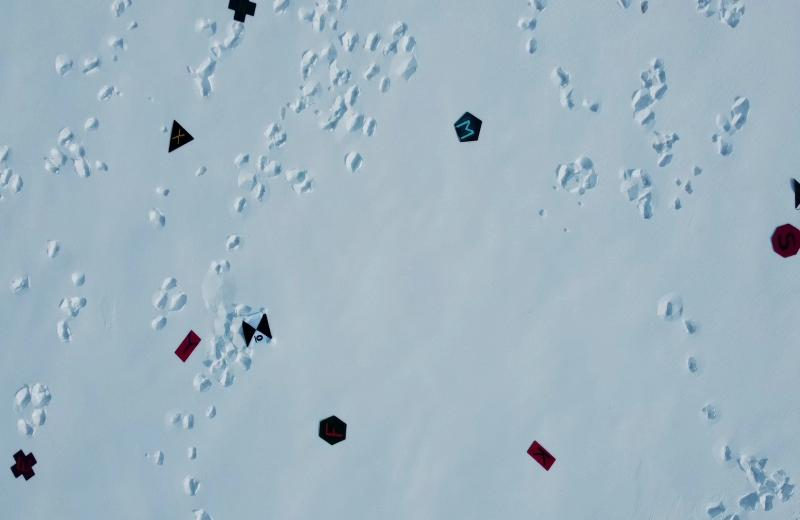Cross: (9, 444, 40, 482), (223, 0, 258, 29)
Hexagon: (314, 412, 352, 449)
Octagon: (763, 210, 800, 278)
Pentagon: (447, 108, 484, 149)
Rectangle: (170, 324, 206, 367), (524, 436, 560, 476)
Triangle: (164, 118, 200, 158)
